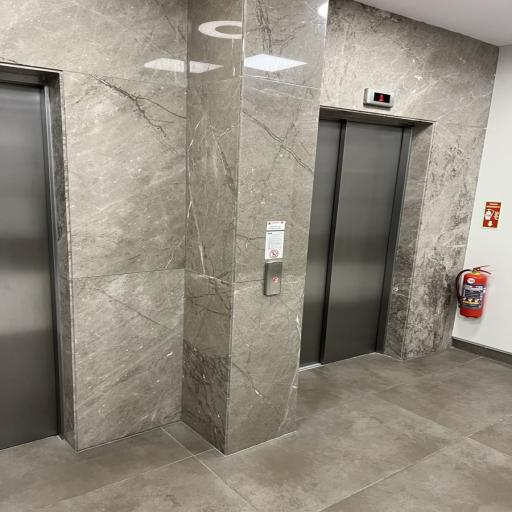crosswalk: (301, 118, 411, 365), (0, 81, 58, 448)
